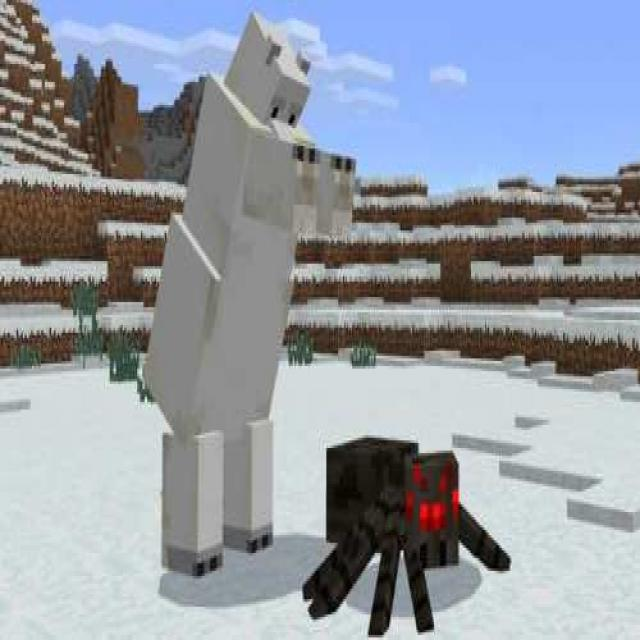Polar Bear: (141, 8, 356, 578)
Spider: (301, 430, 513, 640)
